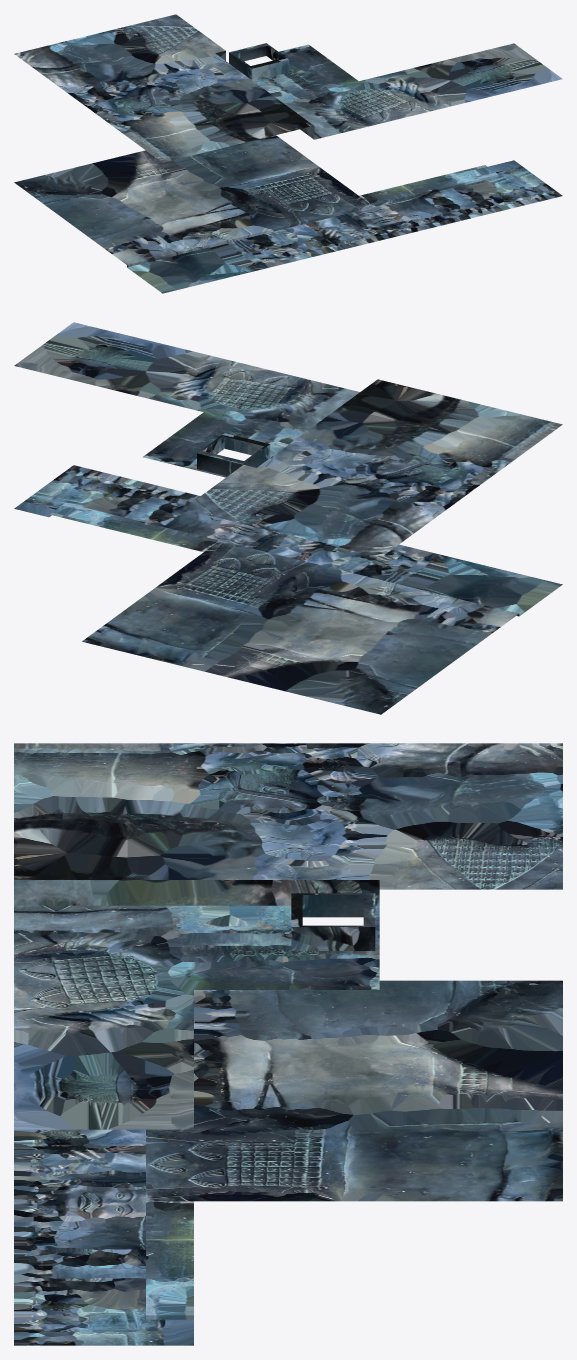
File: futuristic_room_1.obj
3 views of the same model, one above another, from view 1: azimuth 30°, elevation 25°; view 2: azimuth 150°, elevation 25°; view 3: azimuth 270°, elevation 25° (orthographic). The views are drawn at different scales.
Bounding box in the file's own units: 8.98 × 2.81 × 5.78.
